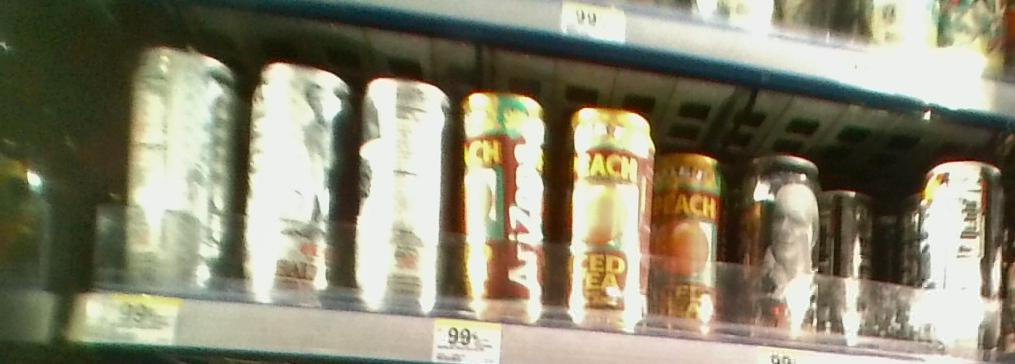bottle: (115, 26, 237, 296), (238, 46, 350, 308), (353, 69, 454, 311), (449, 91, 555, 321), (556, 101, 656, 328), (913, 146, 1008, 350), (734, 152, 819, 344), (656, 136, 727, 338), (820, 184, 885, 337)
